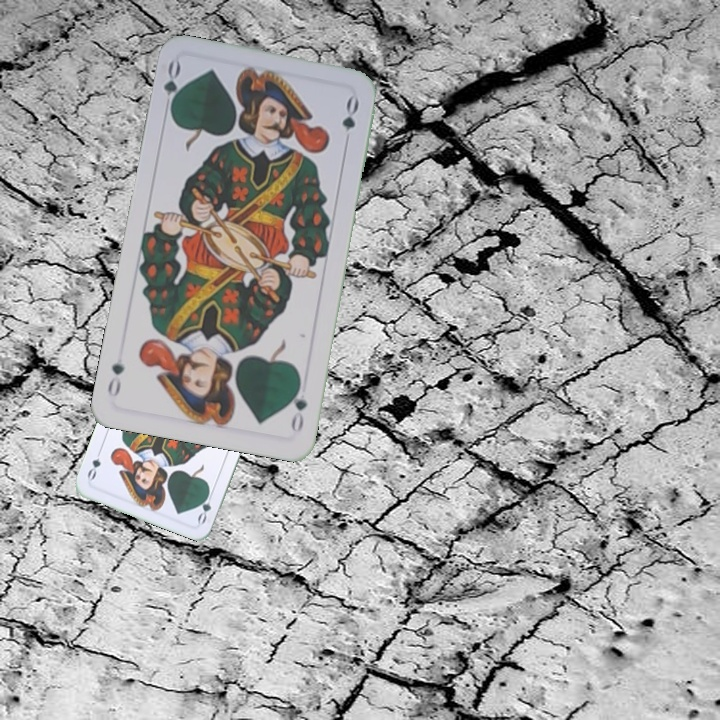GO: (159, 57, 185, 118), (286, 376, 310, 435), (193, 485, 216, 526)
